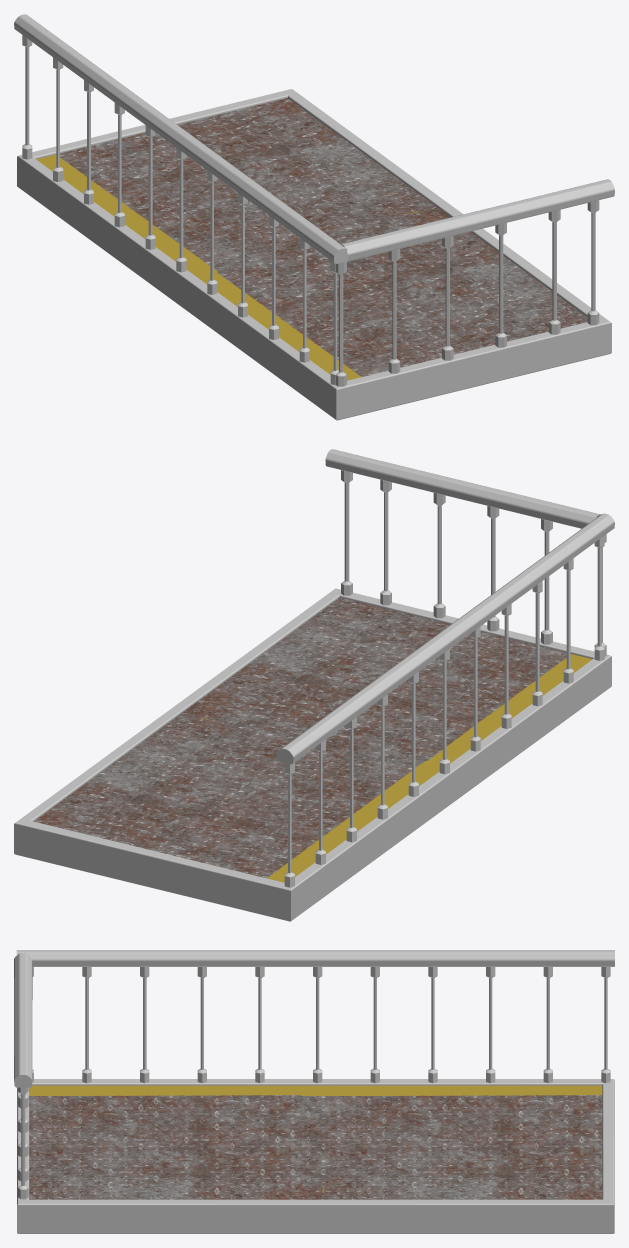
The model's file is msp_floor_scaffolding_modular_corner.fbx.
The picture shows the model from 3 angles, top to bottom: view 1: azimuth 30°, elevation 25°; view 2: azimuth 150°, elevation 25°; view 3: azimuth 270°, elevation 25°; orthographic projection. The views are drawn at different scales.
Visible parts, largest first — view 1: msp_floor_scaffolding_modular_corner; view 2: msp_floor_scaffolding_modular_corner; view 3: msp_floor_scaffolding_modular_corner.
Part boxes in pixels (x1=…): msp_floor_scaffolding_modular_corner: x1=14, y1=14, x2=614, y2=420; msp_floor_scaffolding_modular_corner: x1=14, y1=449, x2=614, y2=921; msp_floor_scaffolding_modular_corner: x1=14, y1=950, x2=614, y2=1233.
Bounding box in the file's own units: 2.02 × 1.19 × 4.02.
